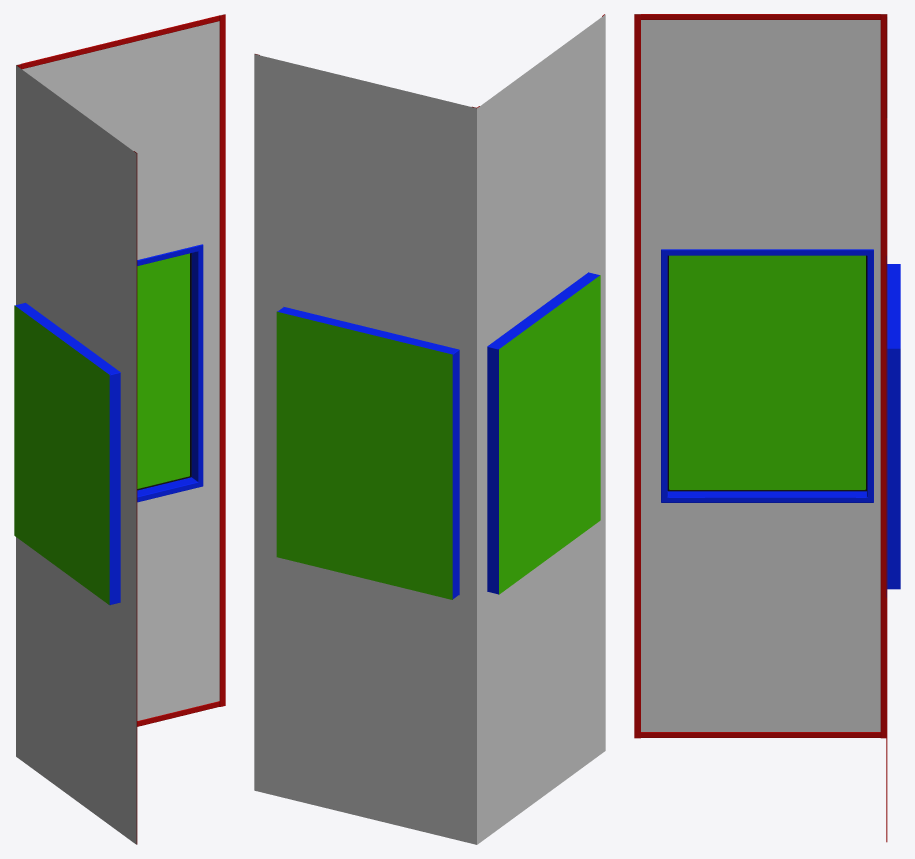
Rendered from Wall02WindowCornerInt.fbx.
3 renders of one model, left to right at view 1: azimuth 30°, elevation 25°; view 2: azimuth 150°, elevation 25°; view 3: azimuth 270°, elevation 25°, orthographic. The views are drawn at different scales.
Parts seen in each view (by area): view 1: Wall02WindowCornerInt; view 2: Wall02WindowCornerInt; view 3: Wall02WindowCornerInt.
Boxes of the visible parts, bbox=[...] form: Wall02WindowCornerInt: bbox=[14, 14, 225, 844]; Wall02WindowCornerInt: bbox=[254, 14, 605, 844]; Wall02WindowCornerInt: bbox=[634, 14, 900, 842].
Bounding box in the file's own units: 100 × 300 × 100.
